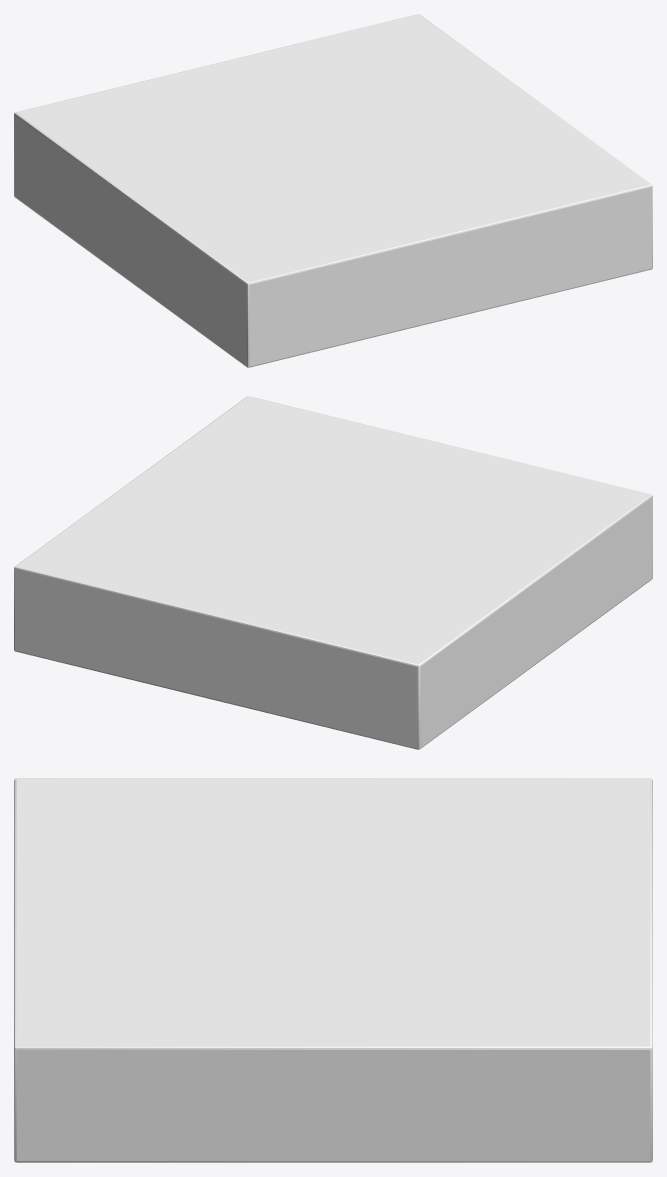
Rendered from LowLoungeTable.fbx.
3 renders of one model, top to bottom at view 1: azimuth 30°, elevation 25°; view 2: azimuth 150°, elevation 25°; view 3: azimuth 270°, elevation 25°, orthographic. The views are drawn at different scales.
Parts seen in each view (by area): view 1: LowLoungeTable; view 2: LowLoungeTable; view 3: LowLoungeTable.
Part boxes in pixels (x1,y1,x2,y2): LowLoungeTable: (14,14,652,367); LowLoungeTable: (14,396,652,749); LowLoungeTable: (14,778,652,1162).
Size of the model in its own units: 50 by 10 by 50.
1 material, 1 textured.
